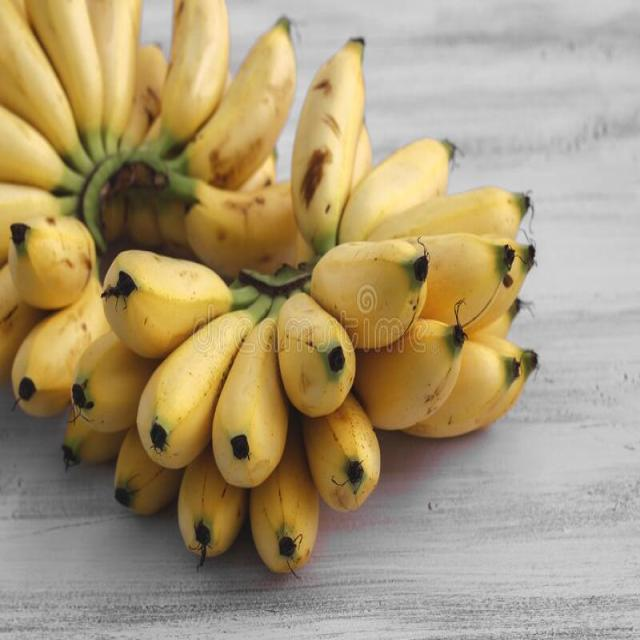banana: (58, 32, 544, 586), (0, 0, 374, 430)
